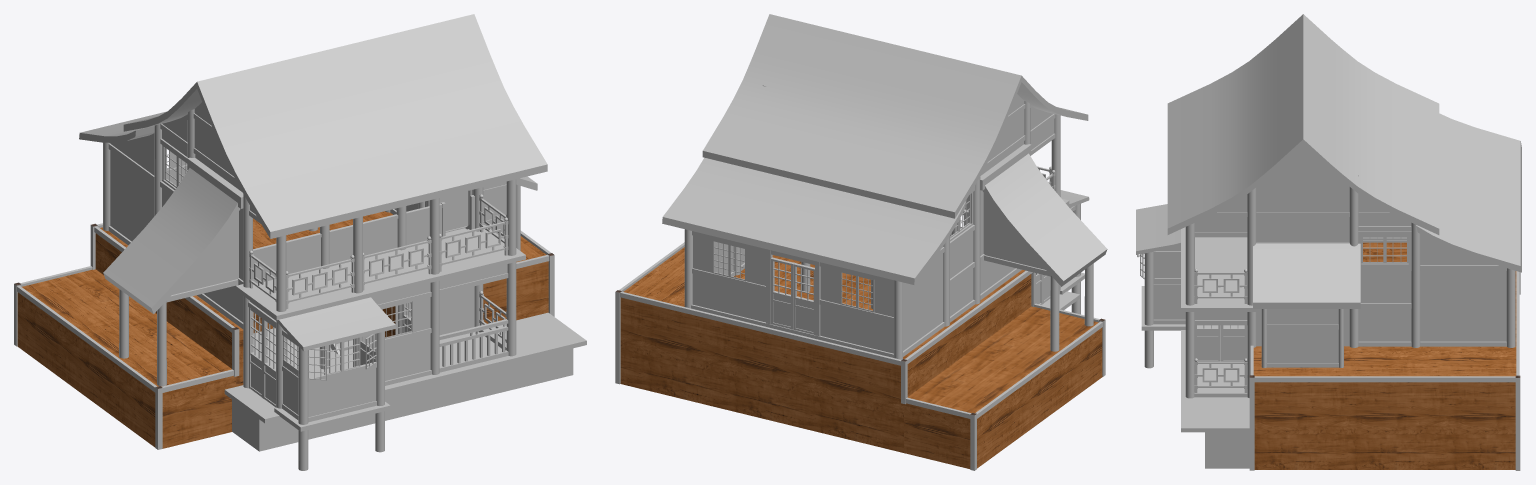
The model's file is fisherman building.fbx.
3 renders of one model, left to right at view 1: azimuth 30°, elevation 25°; view 2: azimuth 150°, elevation 25°; view 3: azimuth 270°, elevation 25°, orthographic. The views are drawn at different scales.
Visible parts, largest first — view 1: polySurface3464; view 2: polySurface3464; view 3: polySurface3464.
Boxes of the visible parts, <box> form: polySurface3464: <box>14,14,586,470</box>; polySurface3464: <box>615,14,1107,470</box>; polySurface3464: <box>1136,14,1521,470</box>.
Size of the model in its own units: 16.65 by 13.3 by 15.05.
